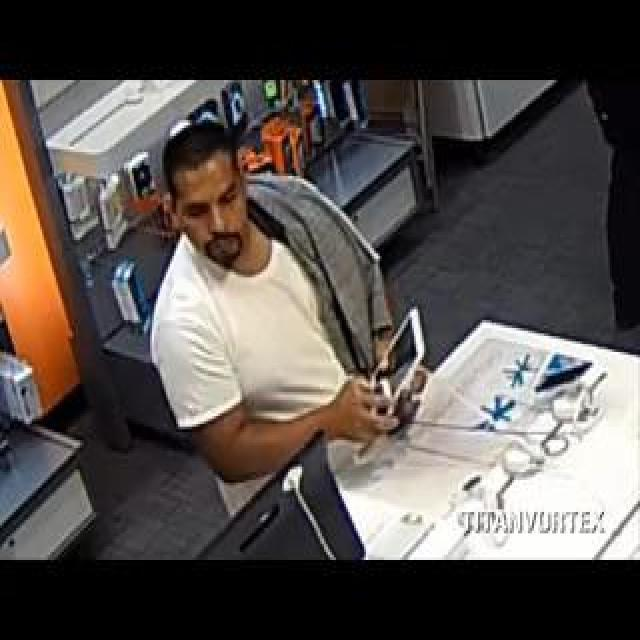Shoplifting: (143, 102, 437, 553)
